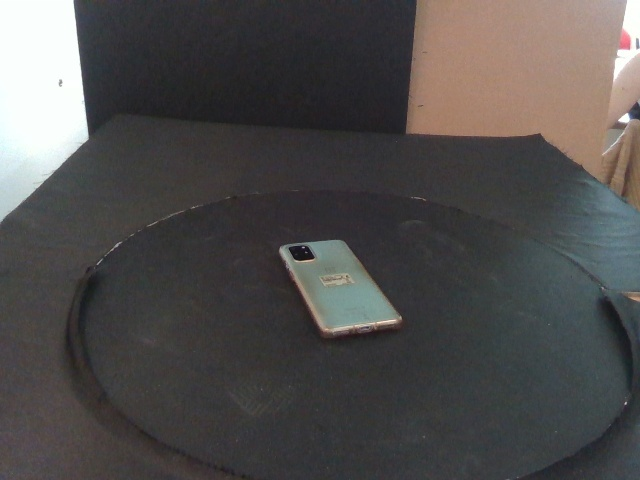phone: (278, 238, 404, 339)
